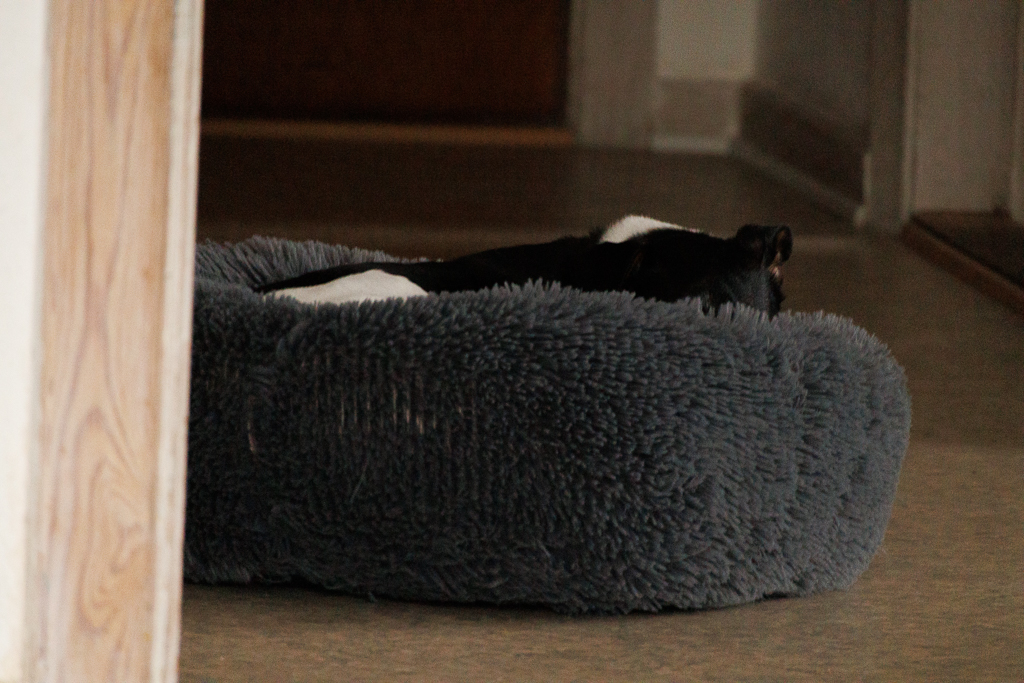Dog: (231, 204, 806, 322)
